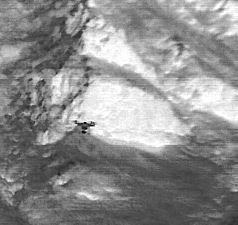Target: (73, 119, 96, 134)
